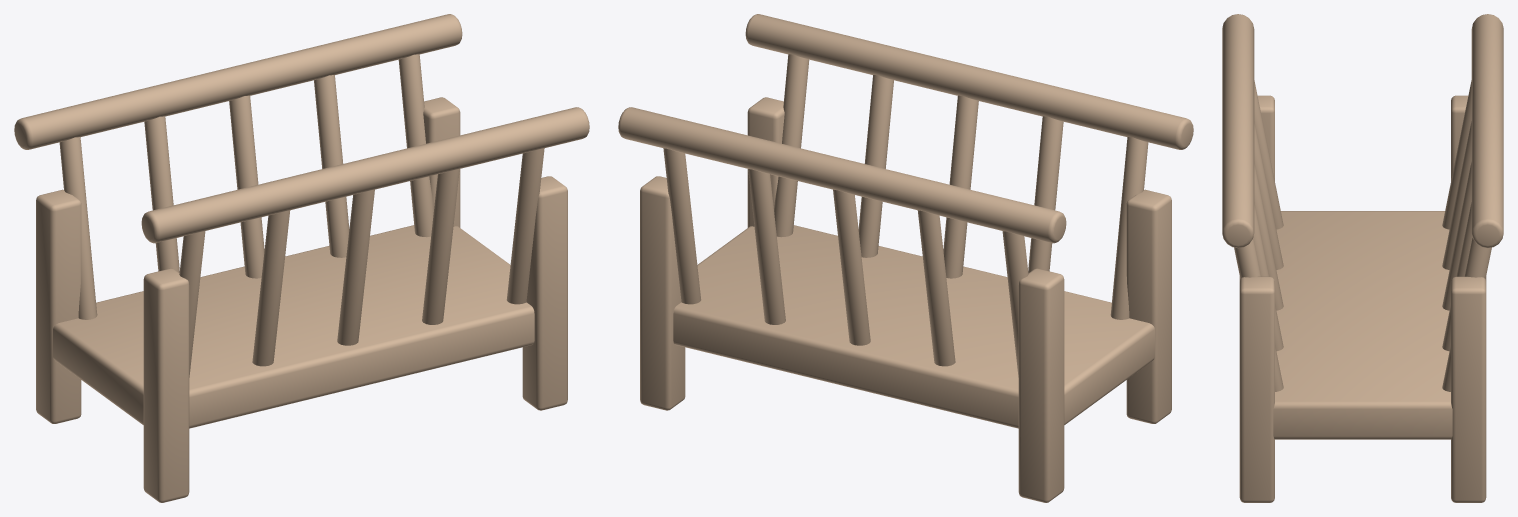
File: hay-empty.glb
3 views of the same model, side by side, from view 1: azimuth 30°, elevation 25°; view 2: azimuth 150°, elevation 25°; view 3: azimuth 270°, elevation 25° (orthographic).
Parts seen in each view (by area): view 1: Rack bottom.002, Top rail.004, Top rail.005, Rack leg.008, Rack leg.009, Rack leg.010, Slanted feeder stave.022, Slanted feeder stave.021, Slanted feeder stave.023, Slanted feeder stave.024, Slanted feeder stave.027, Slanted feeder stave.028 (+5 smaller); view 2: Rack bottom.002, Top rail.005, Top rail.004, Rack leg.009, Rack leg.008, Rack leg.011, Slanted feeder stave.027, Slanted feeder stave.026, Slanted feeder stave.028, Slanted feeder stave.029, Slanted feeder stave.022, Slanted feeder stave.023 (+5 smaller); view 3: Rack bottom.002, Rack leg.010, Rack leg.011, Top rail.004, Top rail.005, Slanted feeder stave.021, Slanted feeder stave.026, Slanted feeder stave.020, Slanted feeder stave.025, Slanted feeder stave.022, Slanted feeder stave.027, Slanted feeder stave.024 (+5 smaller).
Boxes of the visible parts, box(x1,y1,x2,y2) form: Rack bottom.002: box(53, 225, 534, 428); Top rail.004: box(141, 107, 589, 243); Top rail.005: box(14, 14, 462, 149); Rack leg.008: box(143, 268, 189, 502); Rack leg.009: box(36, 189, 81, 423); Rack leg.010: box(522, 176, 567, 410); Slanted feeder stave.022: box(337, 189, 374, 345); Slanted feeder stave.021: box(252, 210, 290, 366); Slanted feeder stave.023: box(422, 169, 459, 324); Slanted feeder stave.024: box(506, 148, 544, 304); Slanted feeder stave.027: box(229, 95, 264, 278); Slanted feeder stave.028: box(314, 75, 349, 257); Rack bottom.002: box(673, 225, 1154, 428); Top rail.005: box(618, 107, 1066, 243); Top rail.004: box(745, 14, 1193, 149); Rack leg.009: box(1018, 268, 1064, 502); Rack leg.008: box(1126, 189, 1171, 423); Rack leg.011: box(640, 176, 685, 410); Slanted feeder stave.027: box(833, 189, 870, 345); Slanted feeder stave.026: box(917, 210, 955, 366); Slanted feeder stave.028: box(748, 169, 785, 324); Slanted feeder stave.029: box(663, 148, 701, 304); Slanted feeder stave.022: box(943, 95, 978, 278); Slanted feeder stave.023: box(858, 75, 893, 257); Rack bottom.002: box(1273, 211, 1452, 439); Rack leg.010: box(1239, 276, 1274, 502); Rack leg.011: box(1451, 276, 1486, 502); Top rail.004: box(1222, 14, 1254, 248); Top rail.005: box(1471, 14, 1503, 248); Slanted feeder stave.021: box(1254, 121, 1283, 269); Slanted feeder stave.026: box(1442, 121, 1471, 269); Slanted feeder stave.020: box(1254, 80, 1283, 229); Slanted feeder stave.025: box(1442, 80, 1471, 229); Slanted feeder stave.022: box(1254, 162, 1283, 310); Slanted feeder stave.027: box(1442, 162, 1471, 310); Slanted feeder stave.024: box(1234, 238, 1283, 391).
Bounding box in the file's own units: 1.54 × 1 × 0.88.
